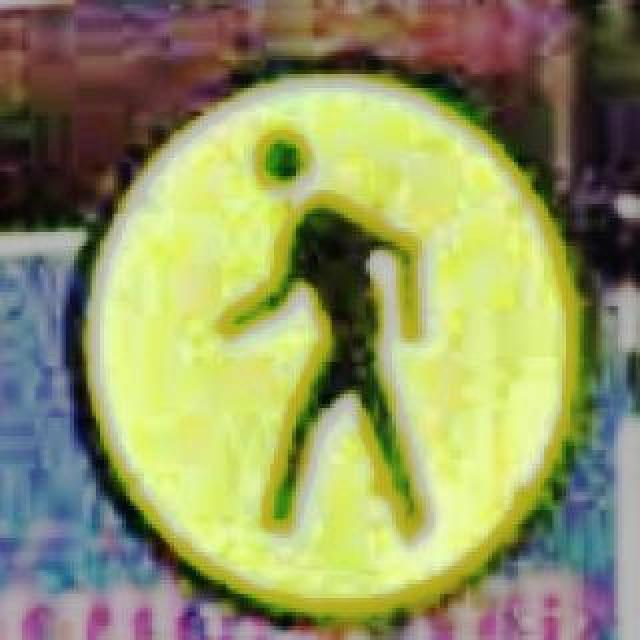pedestrian crossing: (58, 42, 610, 634)
